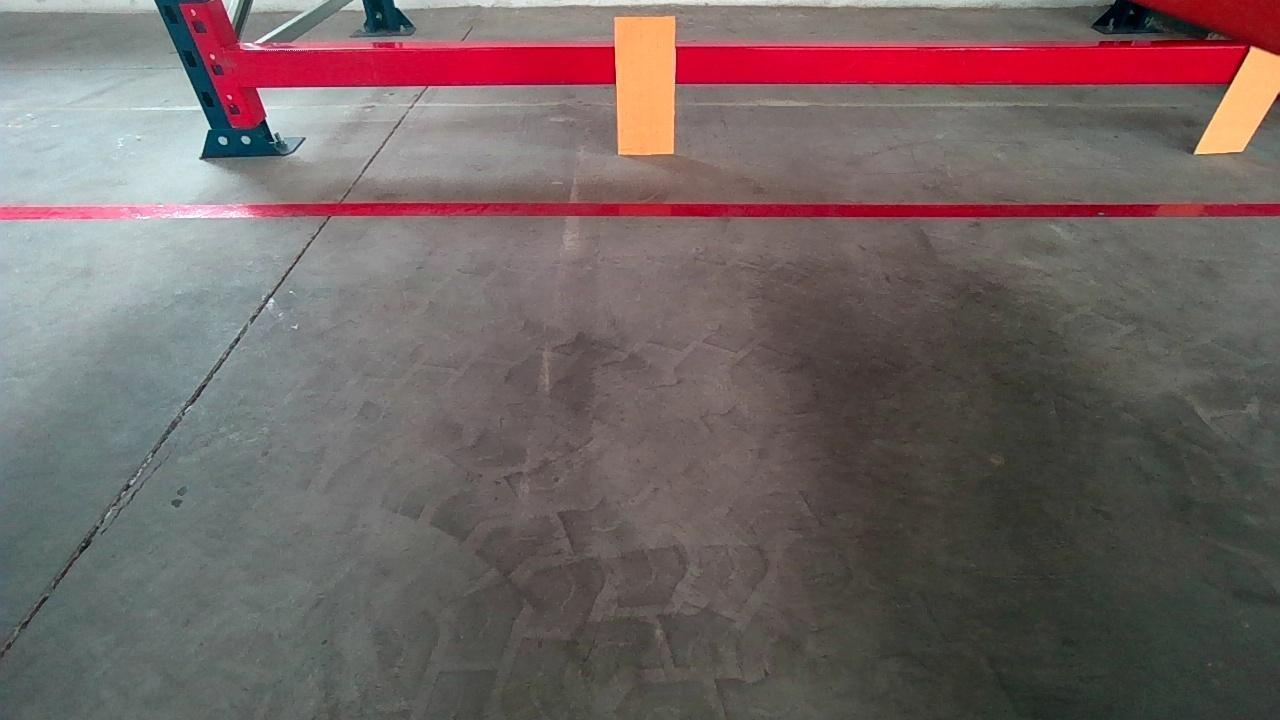red_line: (12, 195, 1272, 225)
